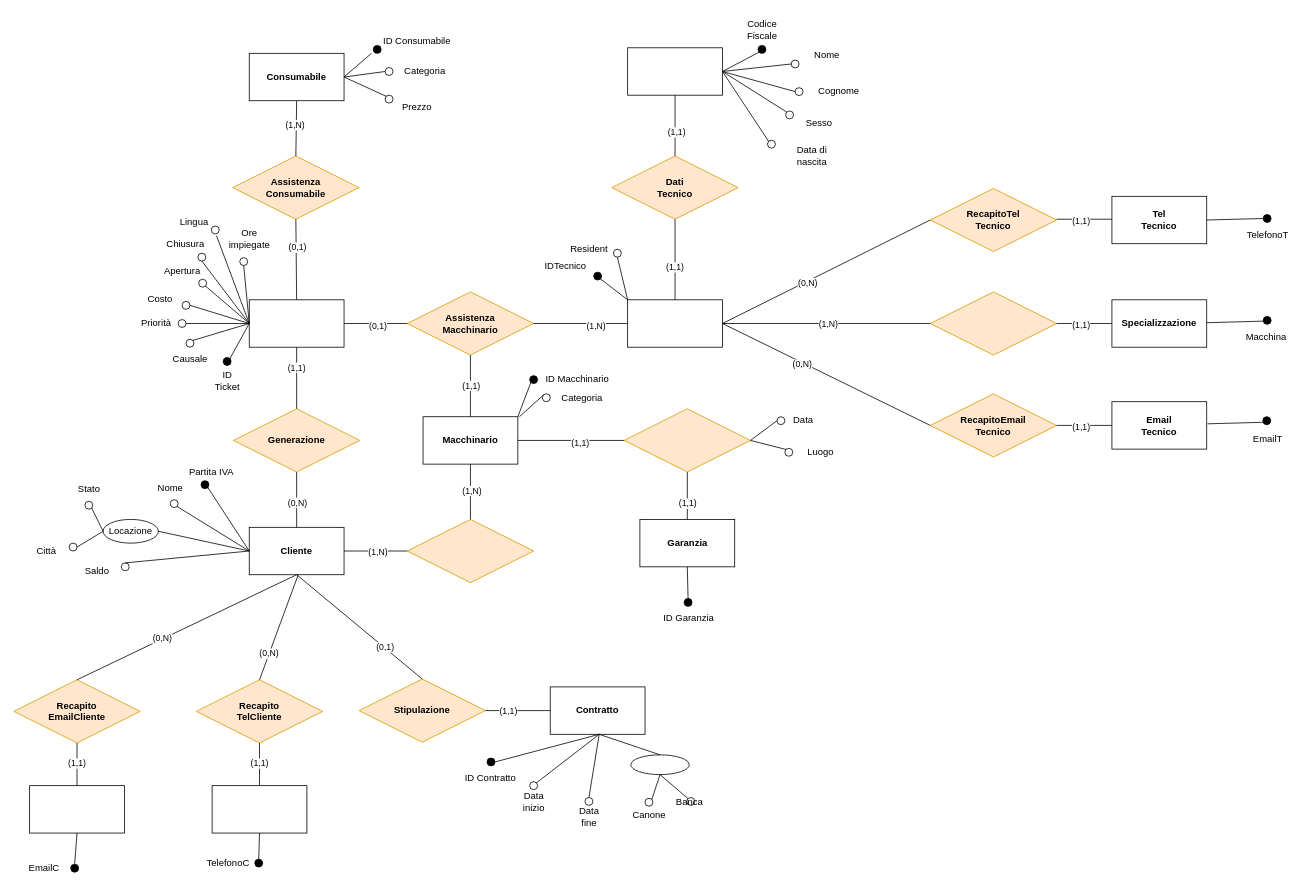
Some shapes in this 1309 by 892 pixel diagram are drawn without their labels. The centre of each missing label's shape, as x and y in pixels:
Acquisto Macchinario: point (470, 551)
Dati Anagrafici: point (674, 71)
Dati Lavorativi: point (674, 323)
Email Cliente: point (76, 809)
Installazione: point (686, 440)
Pagamento: point (659, 764)
Specializzazione Tecnico: point (993, 323)
TelCliente: point (259, 809)
Ticket: point (296, 323)
